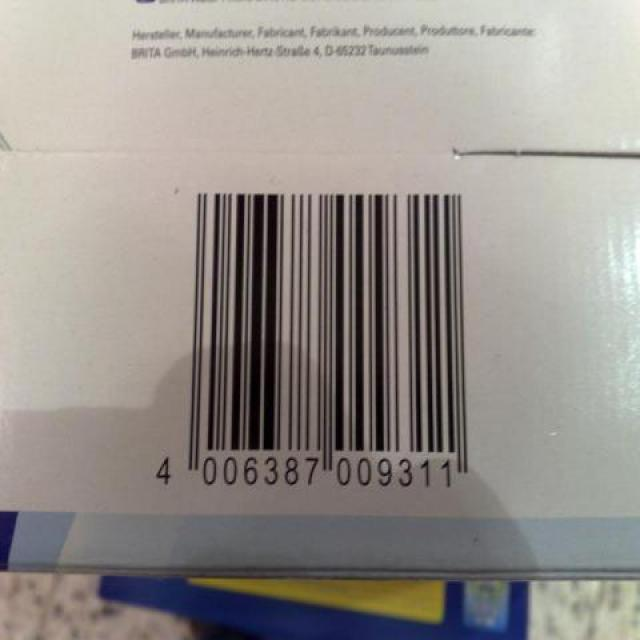Barcode: (150, 170, 493, 510)
